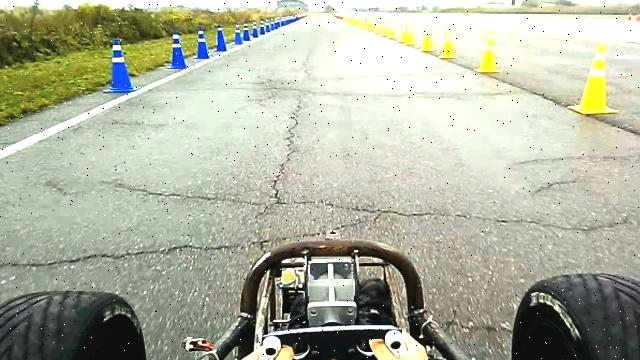blue cone: (102, 38, 140, 93), (166, 30, 188, 69), (193, 26, 211, 59), (215, 26, 228, 52), (234, 23, 244, 45), (242, 24, 251, 41), (252, 20, 259, 38), (259, 20, 266, 35)
yellow cone: (568, 42, 618, 114), (474, 29, 500, 73), (438, 25, 456, 59), (419, 23, 434, 51), (404, 22, 416, 45), (397, 20, 408, 42), (386, 19, 396, 38), (380, 19, 388, 36), (374, 18, 381, 34)
